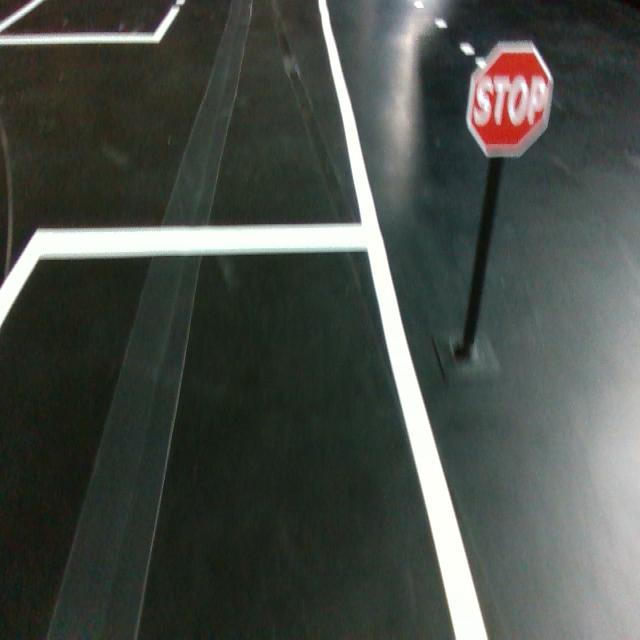stop-sign: (465, 41, 554, 158)
